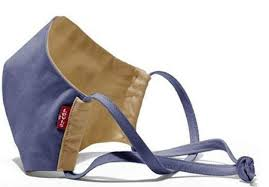cloth_mask: (2, 15, 263, 186)
